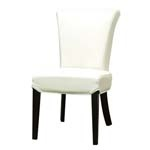obstacle: (32, 9, 119, 144)
